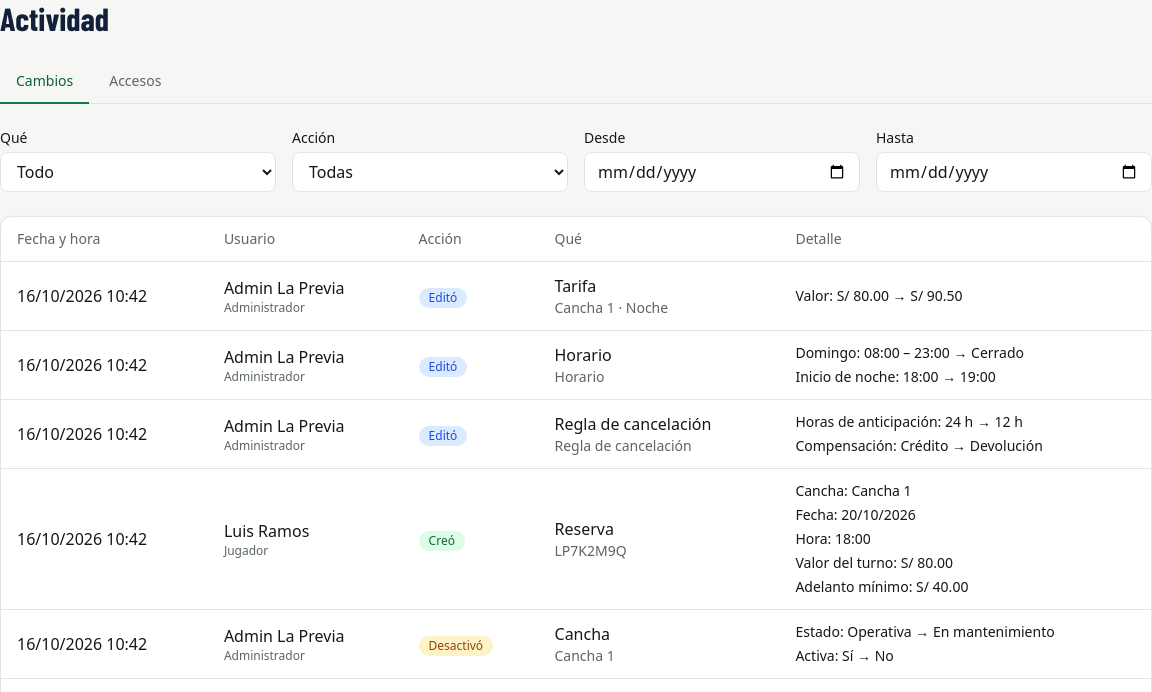
Test case: Actividad: filtros y paginación de cambios › con filtros sin resultados muestra el vacío de filtros
Select "Eliminó" in the dropdown labelled "Acción" at (430, 172), box [292,152,568,192]
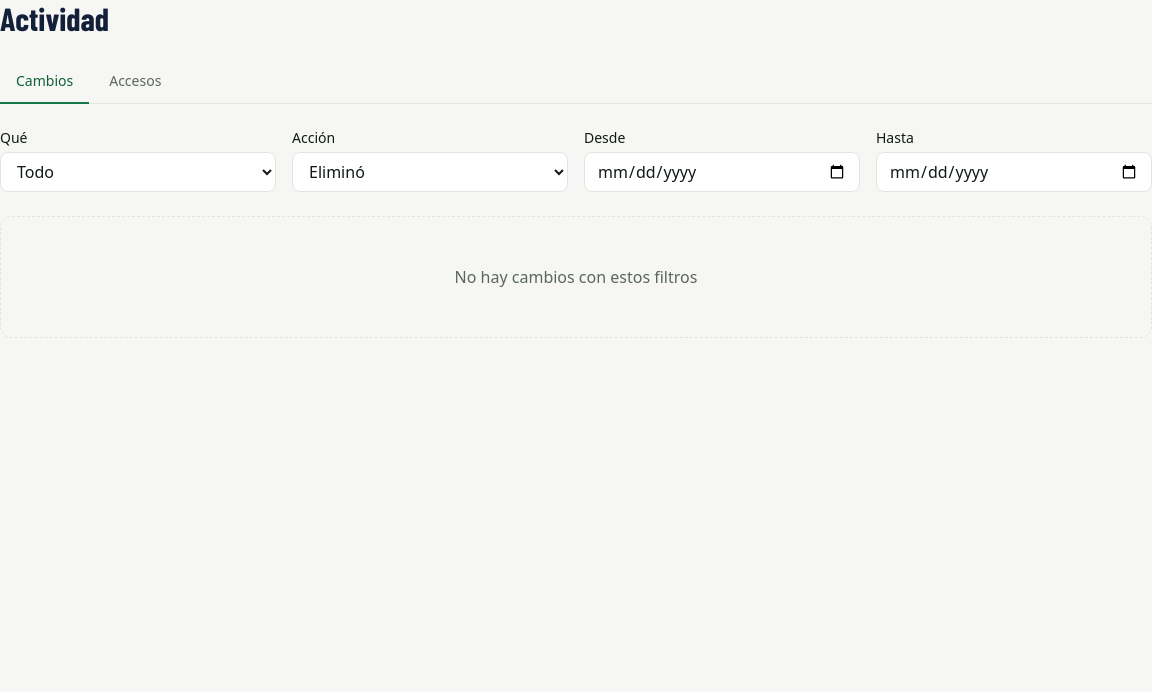
Expected: the text "No hay cambios con estos filtros" is shown, [455,265,697,289]
